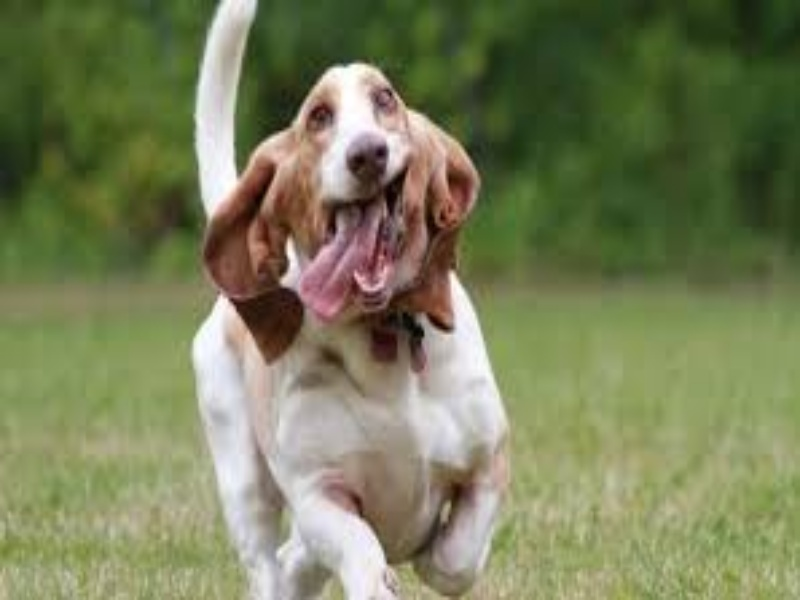dog: (138, 22, 641, 537)
